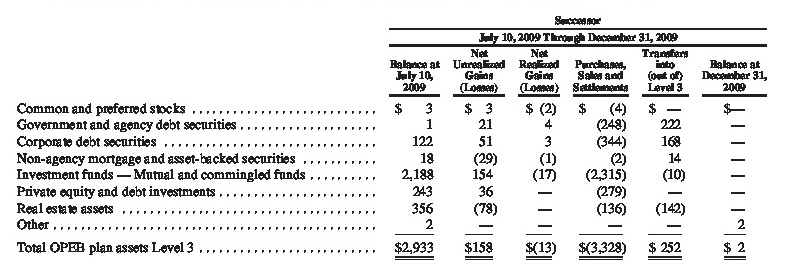table: (0, 0, 791, 273)
